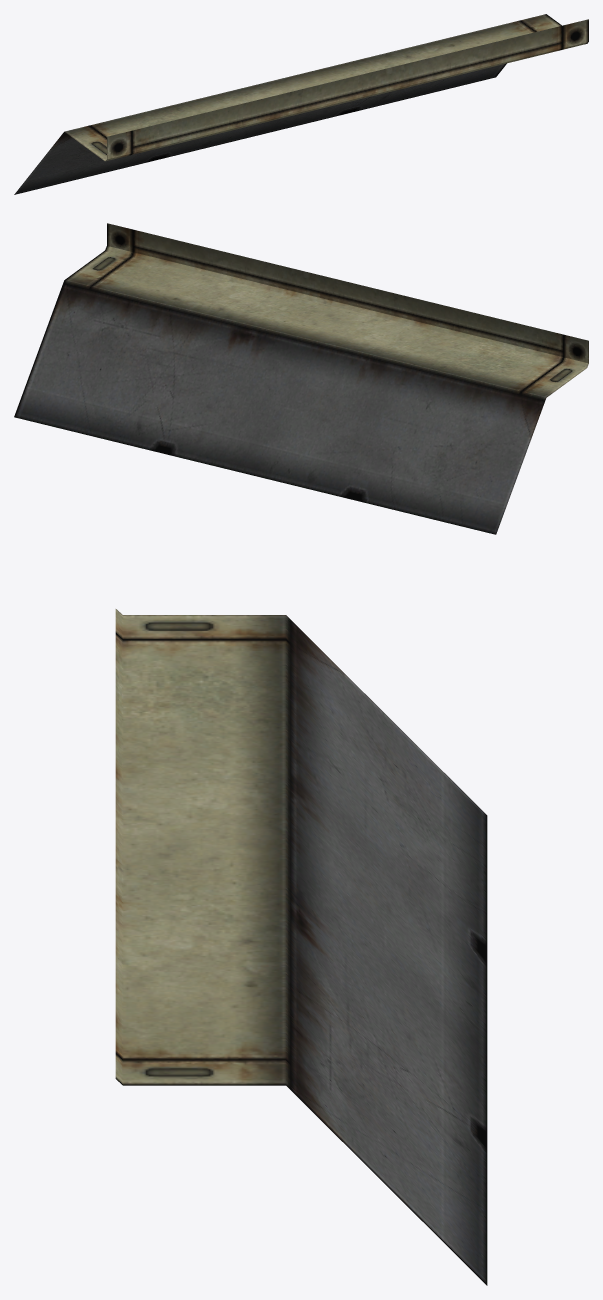
File: living_area_roofedge_straight_short.dae
The picture shows the model from 3 angles, top to bottom: view 1: azimuth 30°, elevation 25°; view 2: azimuth 150°, elevation 25°; view 3: azimuth 270°, elevation 25°; orthographic projection. The views are drawn at different scales.
Parts seen in each view (by area): view 1: pPlane5; view 2: pPlane5; view 3: pPlane5.
Part boxes in pixels (left/top/right/bottom): pPlane5: left=14, top=14, right=588, bottom=194; pPlane5: left=14, top=223, right=588, bottom=534; pPlane5: left=115, top=609, right=487, bottom=1285.
Bounding box in the file's own units: 2 × 0.5 × 0.6671.
